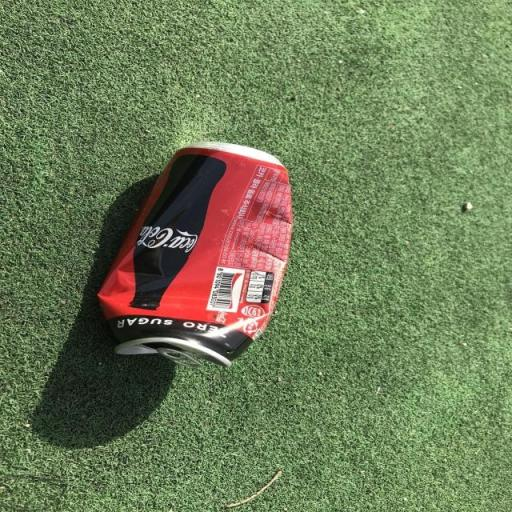metal: (71, 105, 355, 392)
